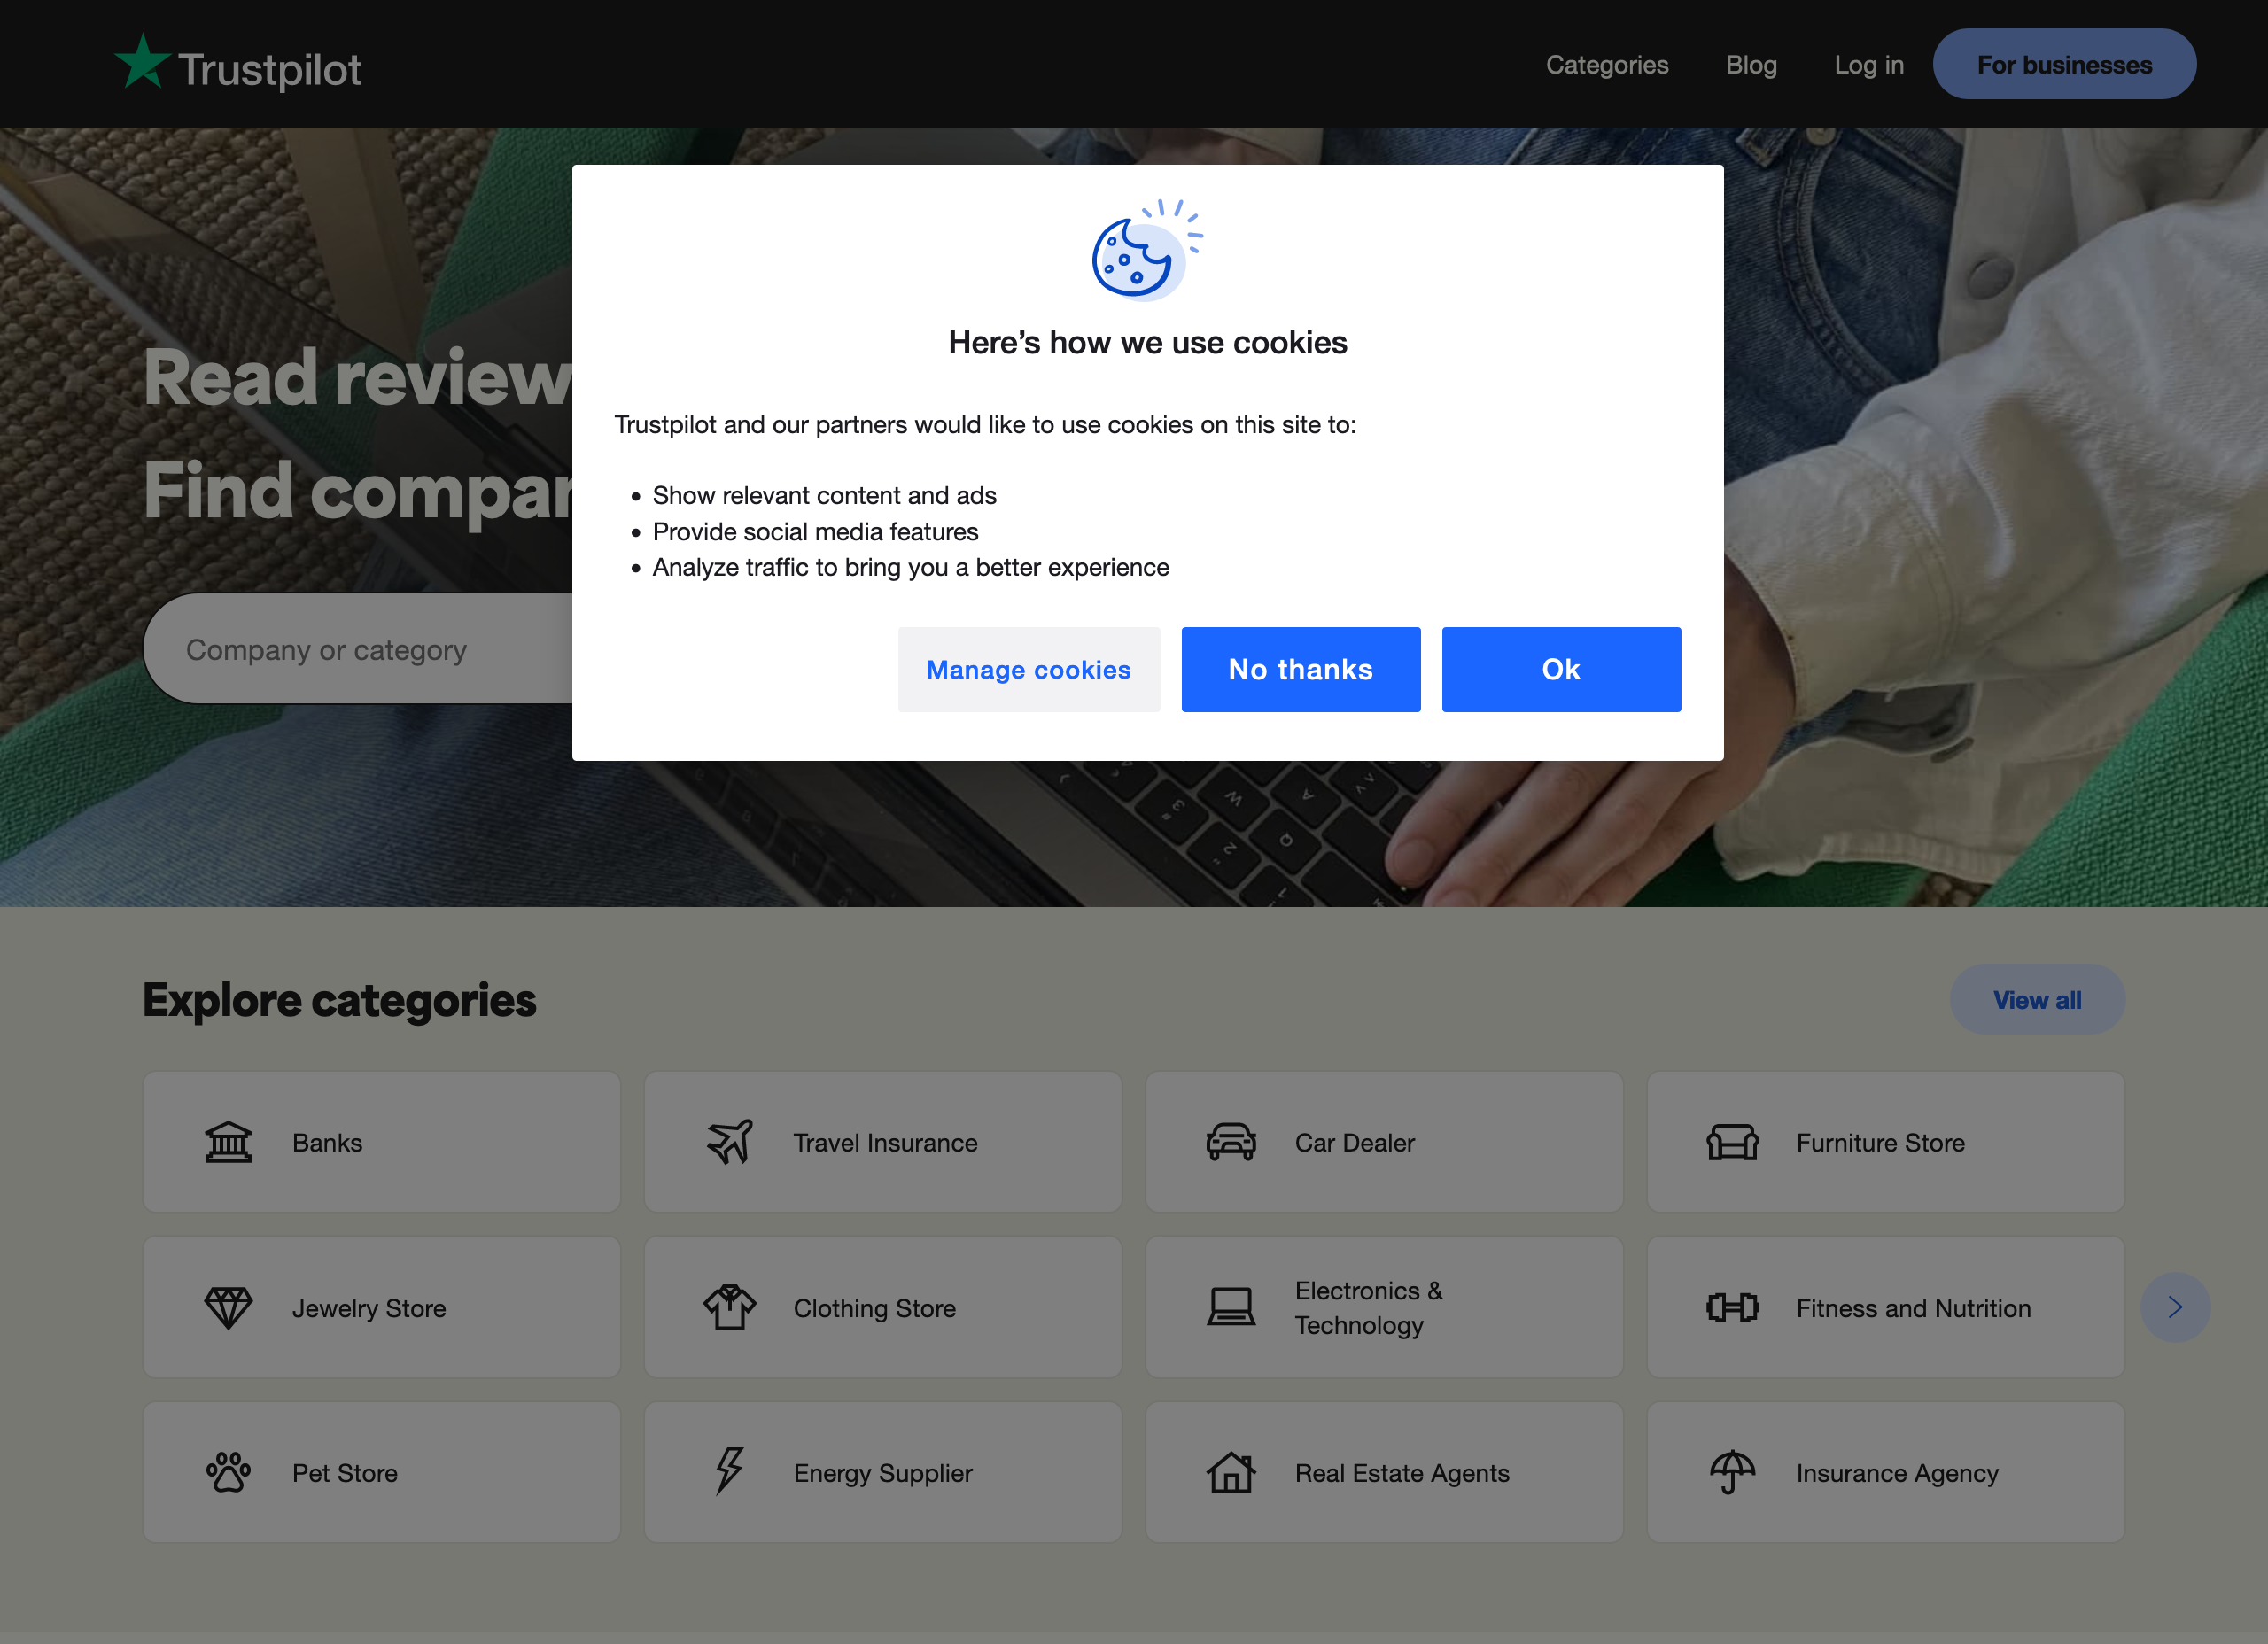Login: (1810, 37, 1919, 93)
